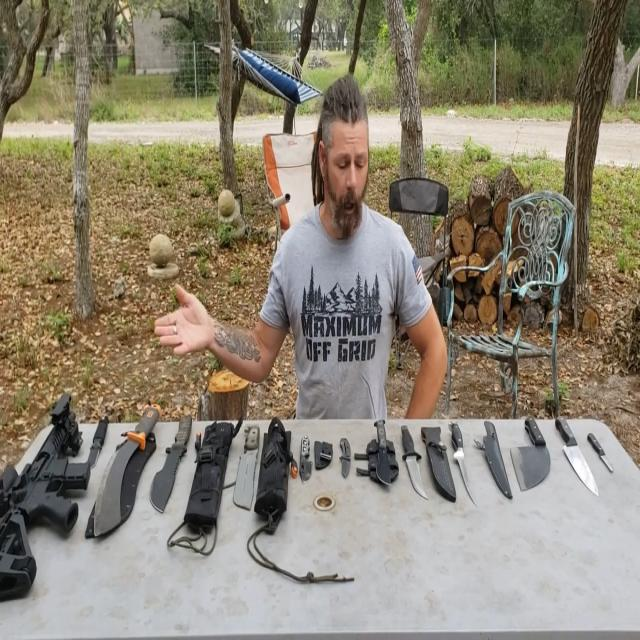knife: (97, 402, 152, 572), (503, 402, 552, 512), (151, 398, 193, 526), (444, 405, 487, 515), (555, 409, 605, 498), (398, 404, 431, 520), (230, 414, 265, 520), (361, 408, 399, 499), (586, 418, 626, 478), (86, 403, 110, 471), (333, 420, 355, 492), (297, 421, 317, 492)
long weapon: (0, 381, 109, 639)
